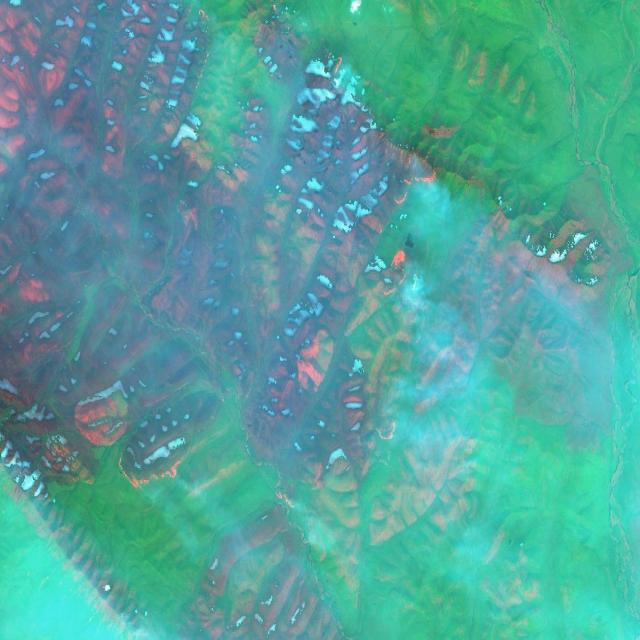fire: (388, 139, 438, 216), (380, 240, 420, 305)
